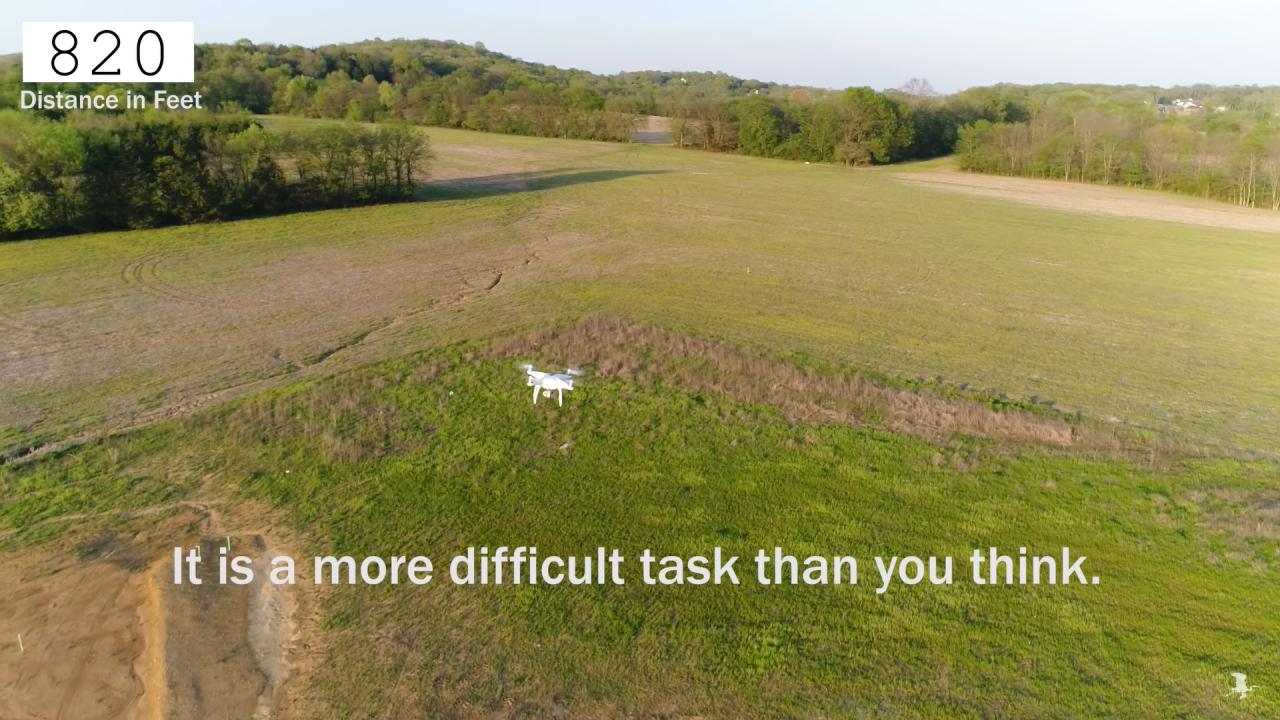Drone: (508, 352, 598, 414)
